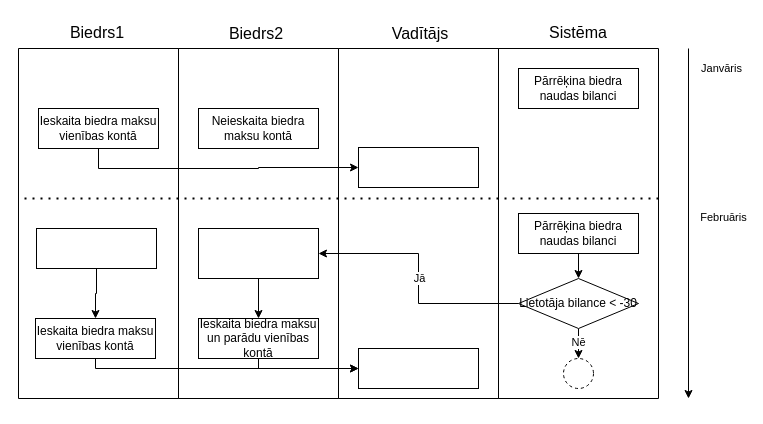
This 763x424 diagram has some shape labels left out. The centre of each missing label's shape, as x and y in pixels:
"Apskata savu profilu un bilanci" goes at pixel 96 248.
"Reģistrē maksājumu sistēmā" goes at pixel 418 167.
"Reģistrē maksājumus sistēmā" goes at pixel 418 368.
"Saņem paziņojumu par kavētu maksājumu" goes at pixel 258 253.
